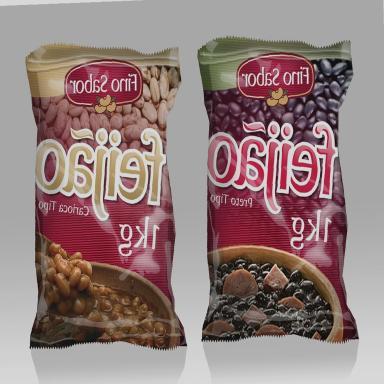beans package: (199, 38, 357, 342), (27, 45, 185, 348)
